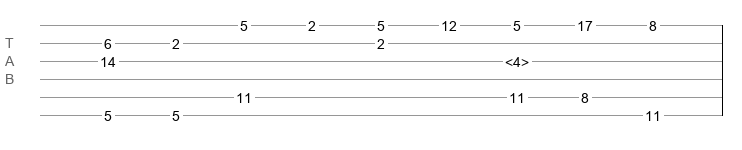11: (236, 90, 252, 100), (509, 90, 525, 100), (645, 108, 661, 118)
12: (441, 18, 457, 28)
14: (100, 54, 116, 64)
17: (577, 18, 593, 28)
2: (172, 36, 180, 46), (308, 18, 316, 28), (377, 36, 385, 46)
5: (104, 108, 112, 118), (172, 108, 180, 118), (240, 18, 248, 28), (377, 18, 385, 28), (513, 18, 521, 28)
6: (104, 36, 112, 46)
8: (581, 90, 589, 100), (649, 18, 657, 28)
harmonic: (505, 54, 529, 64)
